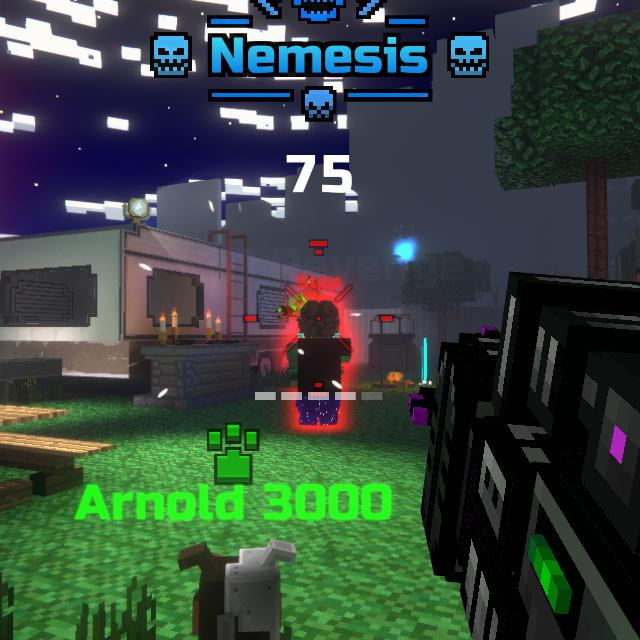Enemy: (286, 300, 351, 425)
